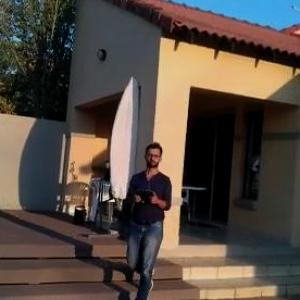follow: (119, 136, 176, 299)
